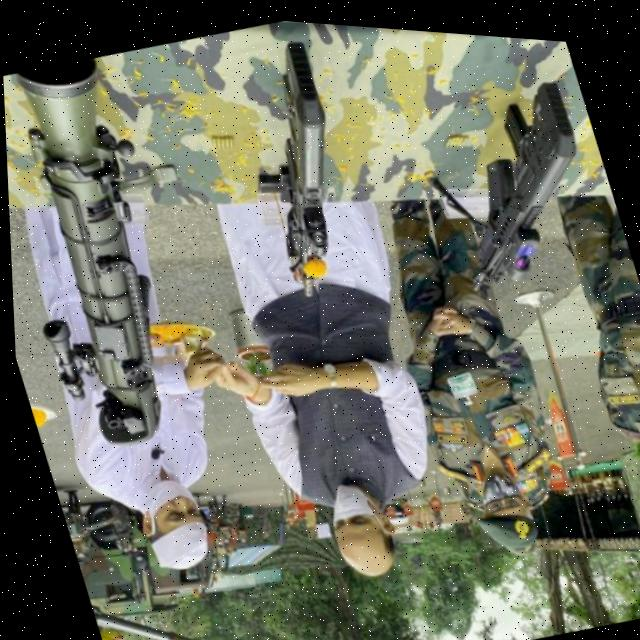rocket: (1, 38, 249, 465)
